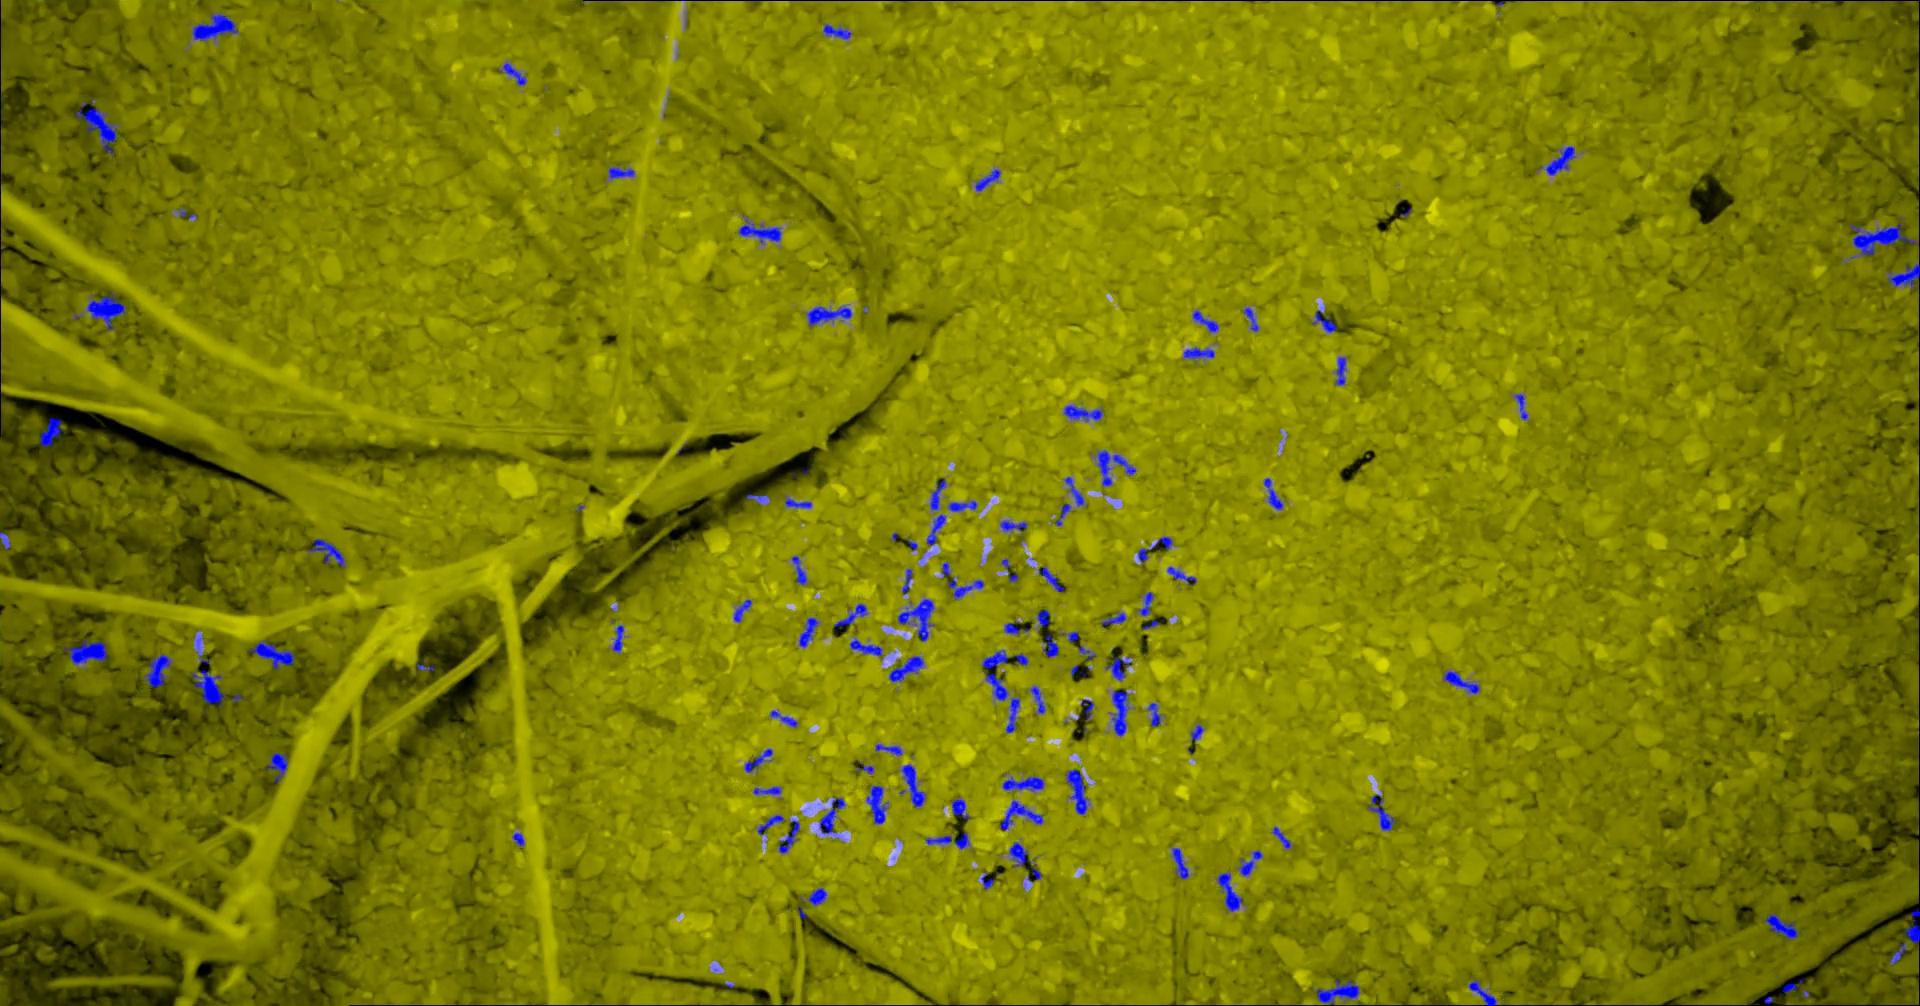ant: (1850, 216, 1920, 258), (77, 98, 119, 155), (983, 649, 1030, 700), (899, 598, 936, 641), (88, 291, 127, 330), (1098, 448, 1137, 486), (249, 639, 296, 669), (192, 668, 227, 708), (1001, 799, 1045, 829), (193, 11, 240, 39), (1010, 841, 1043, 879), (1314, 978, 1361, 1005), (1067, 768, 1092, 814), (902, 763, 928, 807), (739, 217, 783, 243), (1540, 145, 1577, 175), (65, 639, 108, 664), (1218, 870, 1244, 911), (309, 539, 347, 567), (143, 653, 173, 687), (808, 305, 853, 326), (1369, 794, 1396, 829), (1890, 263, 1920, 293), (822, 796, 846, 835), (890, 655, 924, 682), (1139, 536, 1175, 561), (1112, 688, 1131, 735), (949, 575, 985, 600), (1906, 908, 1920, 972), (867, 785, 890, 823), (1444, 671, 1481, 694), (1766, 913, 1799, 939), (926, 831, 971, 848), (836, 603, 869, 627), (1065, 476, 1090, 507), (267, 751, 290, 782), (780, 821, 801, 854), (1470, 979, 1498, 1005), (745, 748, 775, 772), (1004, 775, 1046, 791), (499, 62, 528, 85), (41, 417, 63, 446), (1265, 478, 1285, 509), (1106, 655, 1133, 680), (1239, 848, 1263, 875), (1192, 309, 1220, 332), (800, 617, 822, 647), (1040, 567, 1065, 591), (928, 514, 947, 546), (851, 638, 884, 655), (977, 168, 1002, 191), (1313, 309, 1338, 332), (1065, 405, 1103, 420), (931, 479, 949, 511), (758, 814, 785, 835), (1173, 847, 1190, 879), (1272, 826, 1294, 848), (824, 23, 853, 39), (792, 555, 809, 584), (1168, 567, 1197, 583), (1007, 697, 1021, 732), (771, 710, 799, 727), (1043, 633, 1062, 657), (196, 634, 211, 663), (1032, 685, 1048, 714), (1185, 345, 1217, 359), (1002, 558, 1020, 582), (735, 600, 753, 622), (1139, 591, 1156, 615), (952, 799, 971, 819), (1891, 942, 1909, 964), (1057, 502, 1073, 525), (1336, 356, 1349, 385), (1244, 307, 1260, 332), (1148, 702, 1163, 727), (1516, 392, 1529, 419), (1004, 621, 1031, 634), (809, 887, 828, 904), (1037, 608, 1051, 633), (1102, 612, 1128, 625), (1001, 520, 1029, 531), (613, 624, 625, 652), (610, 166, 636, 178), (786, 495, 813, 507), (903, 568, 914, 594), (876, 743, 903, 754), (949, 500, 978, 511), (1082, 699, 1095, 720), (747, 493, 772, 503), (1079, 645, 1097, 659), (179, 206, 198, 218), (1192, 724, 1205, 742), (983, 871, 996, 889), (754, 786, 783, 794), (857, 762, 875, 774), (1783, 982, 1799, 993), (1, 531, 11, 549), (513, 832, 526, 846), (942, 561, 952, 578), (1844, 0, 1911, 1)
